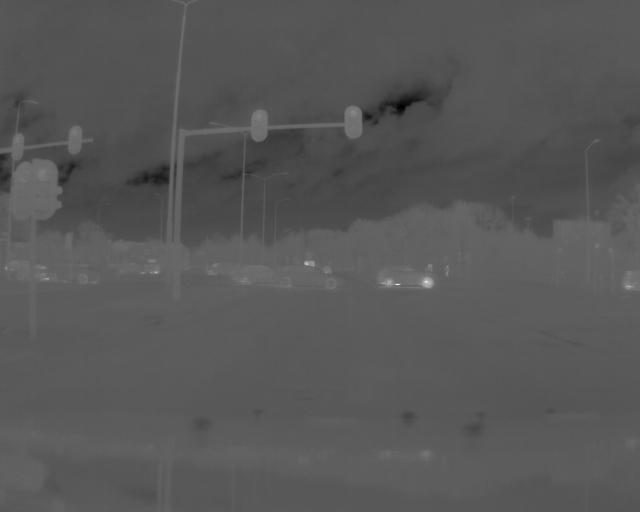car: (372, 262, 443, 292), (272, 265, 343, 292), (47, 263, 104, 287), (232, 266, 291, 286)
